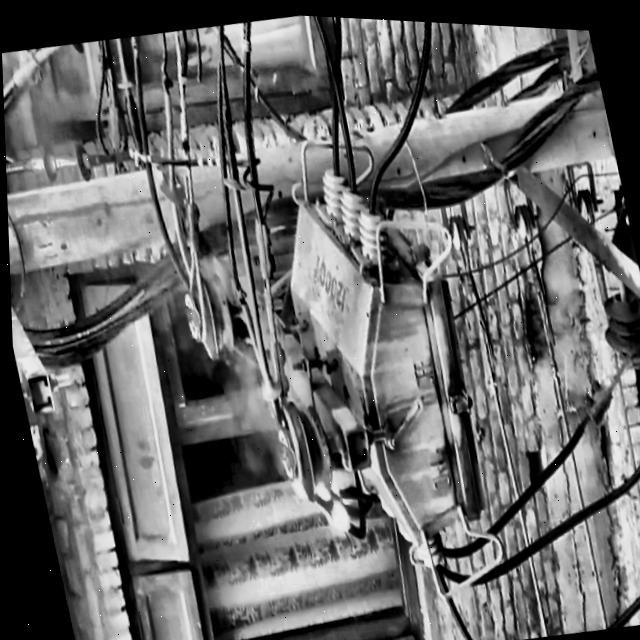Fire: (292, 448, 353, 550)
